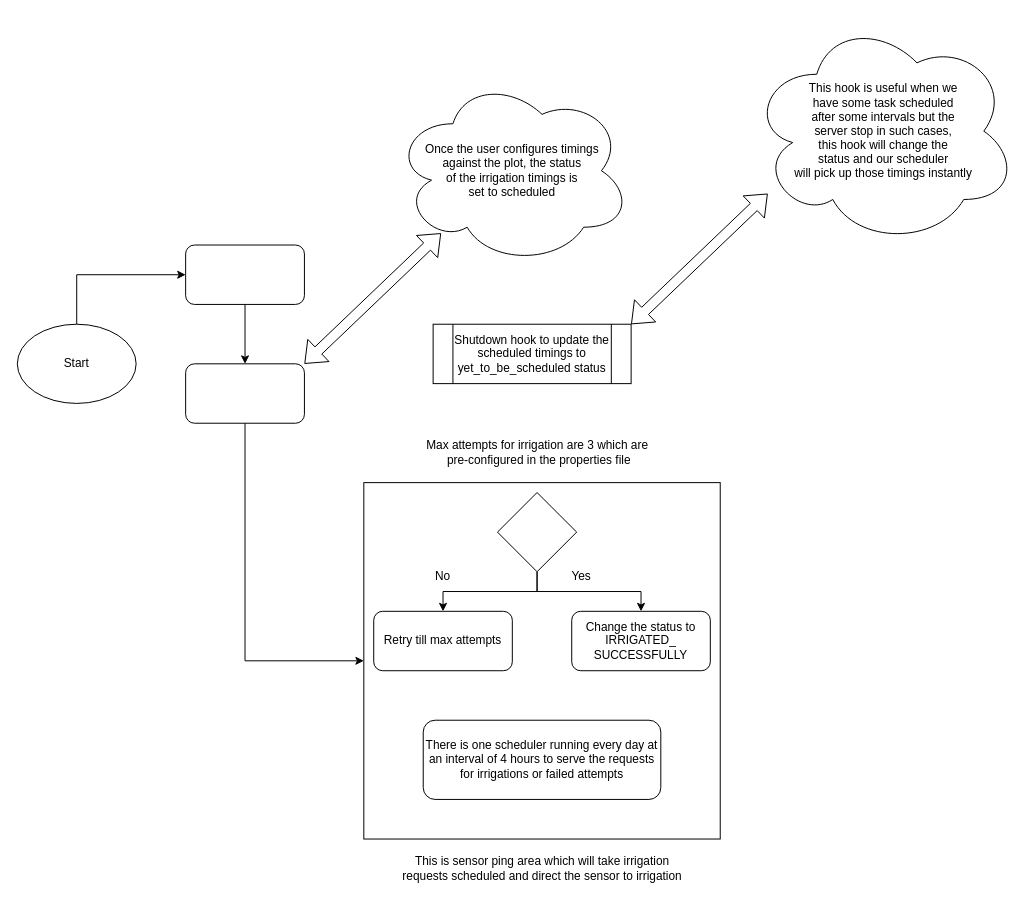
This 1035x906 diagram has some shape labels left out. Here are the shapes that lost their labels. From the top down, the centre of each, then its label:
At (x=244, y=274): "Add Plot".
At (x=244, y=393): "Configure Timings".
At (x=536, y=532): "Irrigated ?".
